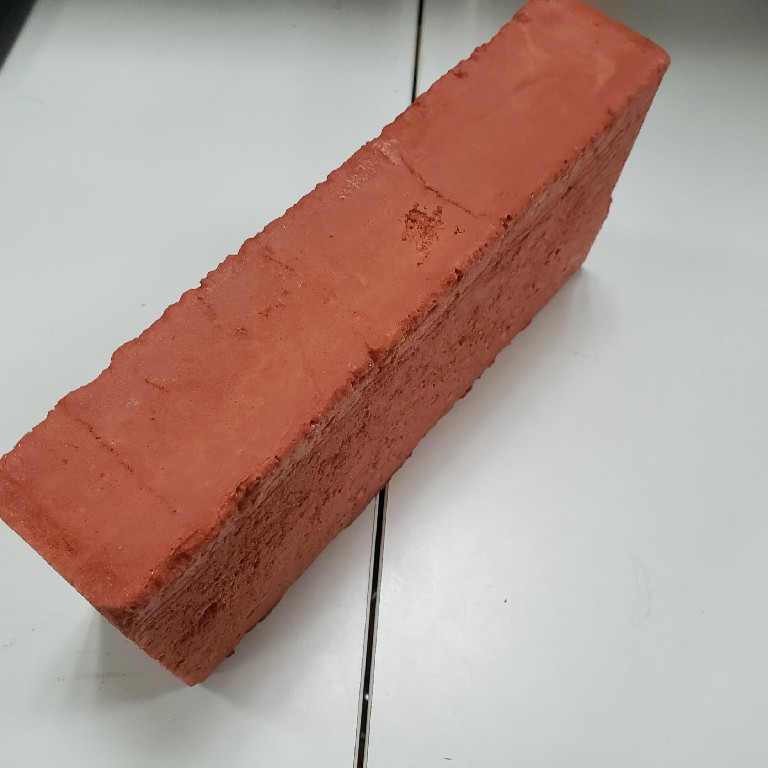brick: (1, 1, 677, 692)
